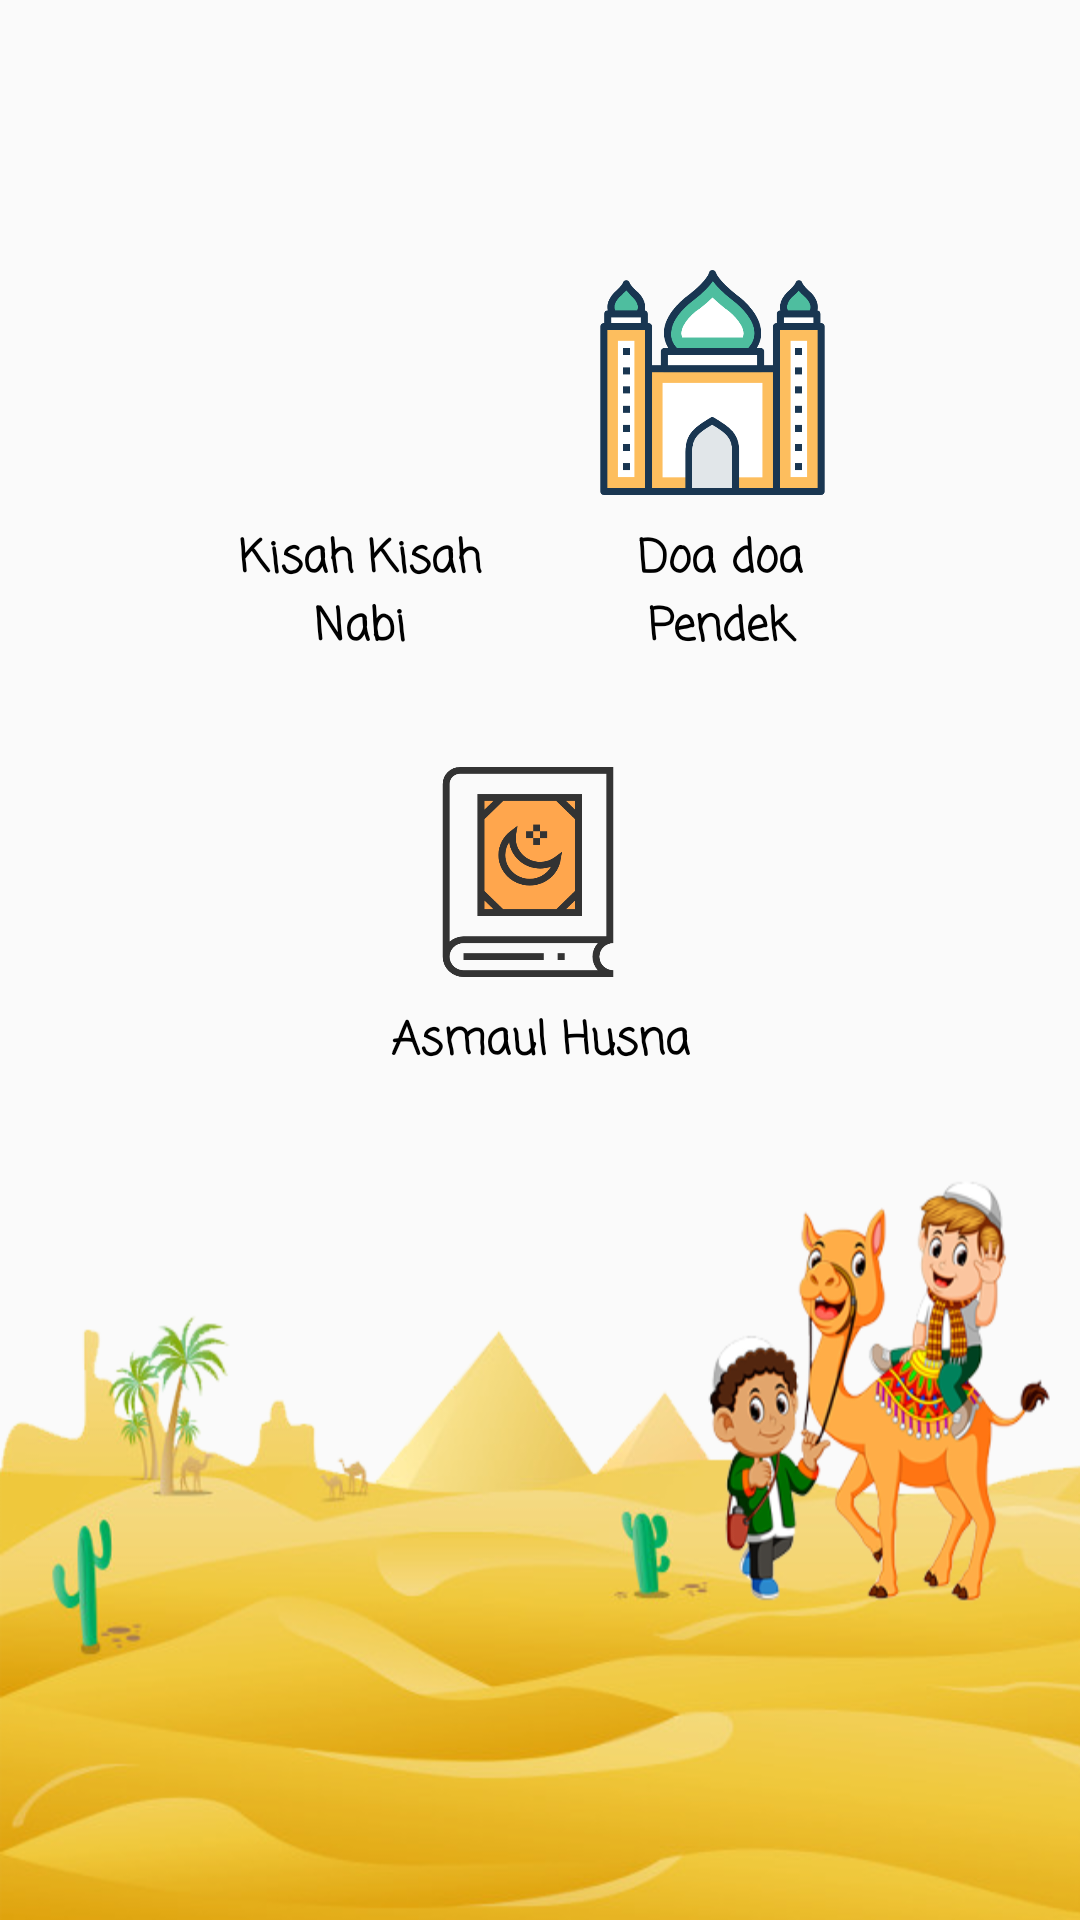

Where to tap for icons on this 1080x1920 app screen, as (x=x, y=y):
mosque: (x=712, y=382)
